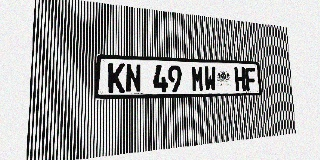4: (153, 64, 168, 92)
9: (168, 65, 182, 92)
F: (245, 67, 257, 91)
H: (234, 67, 246, 91)
K: (108, 63, 125, 93)
M: (191, 66, 204, 92)
N: (125, 64, 141, 93)
W: (204, 66, 217, 91)
